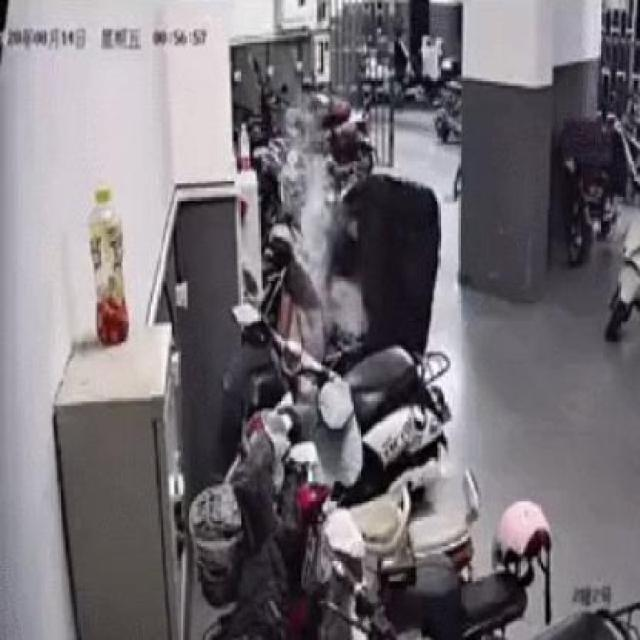Smoke: (307, 174, 361, 346)
